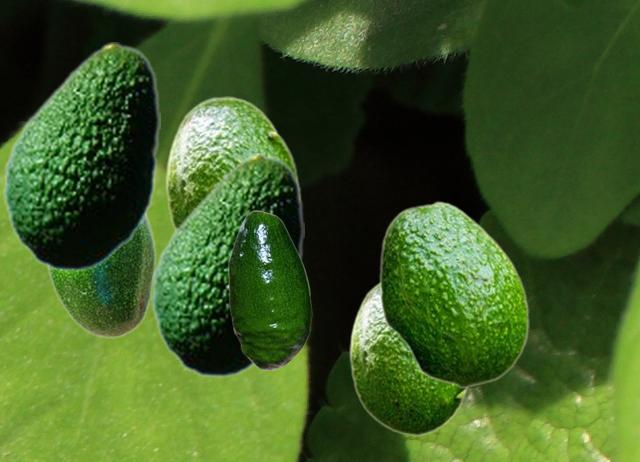avocado: (3, 42, 159, 271), (151, 153, 303, 377), (378, 200, 528, 387), (348, 280, 469, 435), (164, 96, 300, 230), (44, 214, 155, 338), (228, 210, 311, 369)
